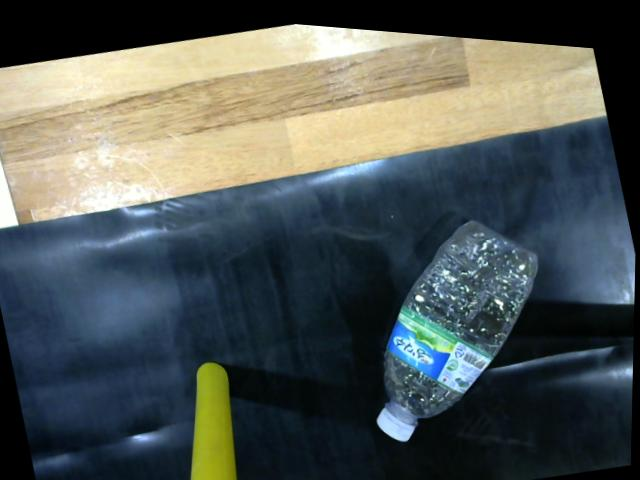bottle: (371, 202, 556, 441)
